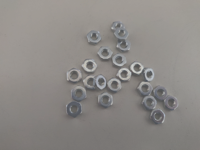nut: (66, 68, 83, 84), (66, 102, 82, 118), (137, 82, 154, 97), (150, 110, 166, 125), (83, 59, 98, 75), (163, 96, 179, 111), (72, 86, 87, 101), (142, 96, 157, 111), (99, 93, 113, 109), (87, 31, 103, 45), (98, 46, 114, 60), (94, 75, 108, 90), (108, 79, 123, 93), (153, 86, 168, 100), (116, 68, 132, 81), (114, 28, 129, 41), (83, 76, 97, 89), (113, 54, 127, 67), (142, 68, 155, 82), (130, 62, 144, 75), (117, 40, 131, 53), (112, 22, 126, 31)
